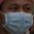with_mask: (1, 1, 34, 34)
